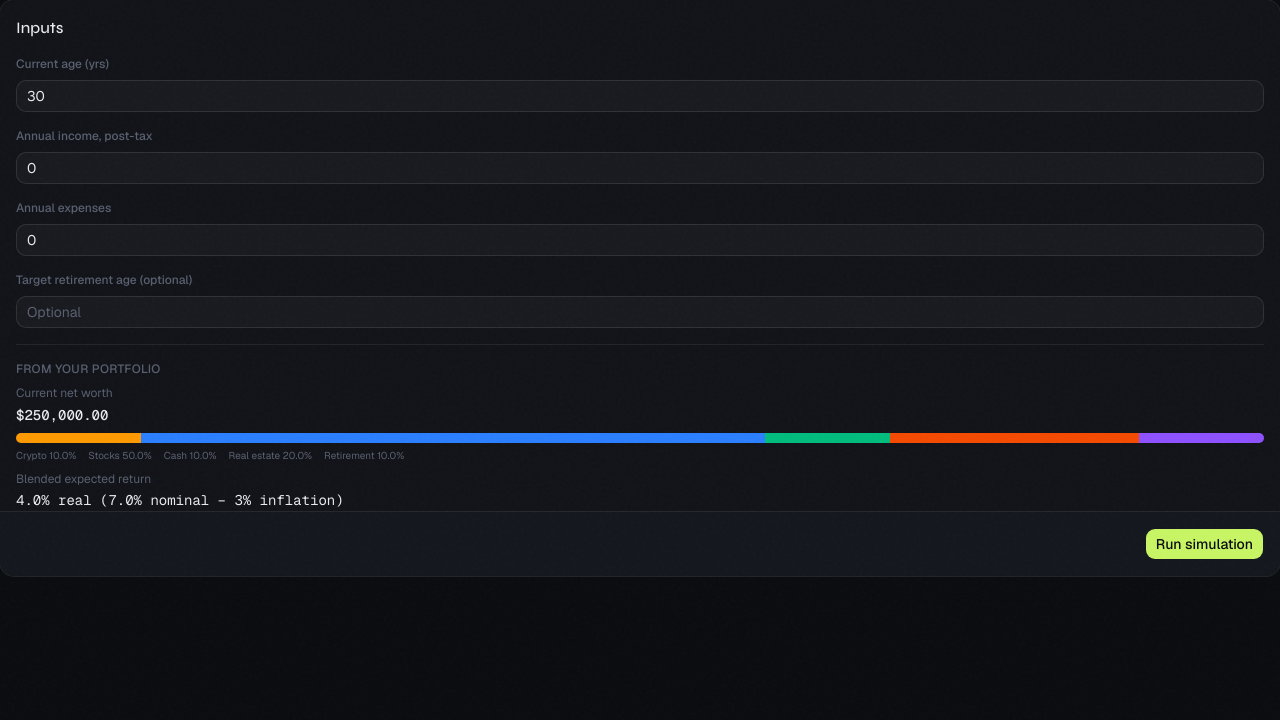
Test: FireInputsForm › shows validation when target retirement age is not above current age
Step 1. Replace the text in the number field labelled "Current age (yrs)" with "40" → [640, 96], box top-left (16, 80), bottom-right (1264, 112)
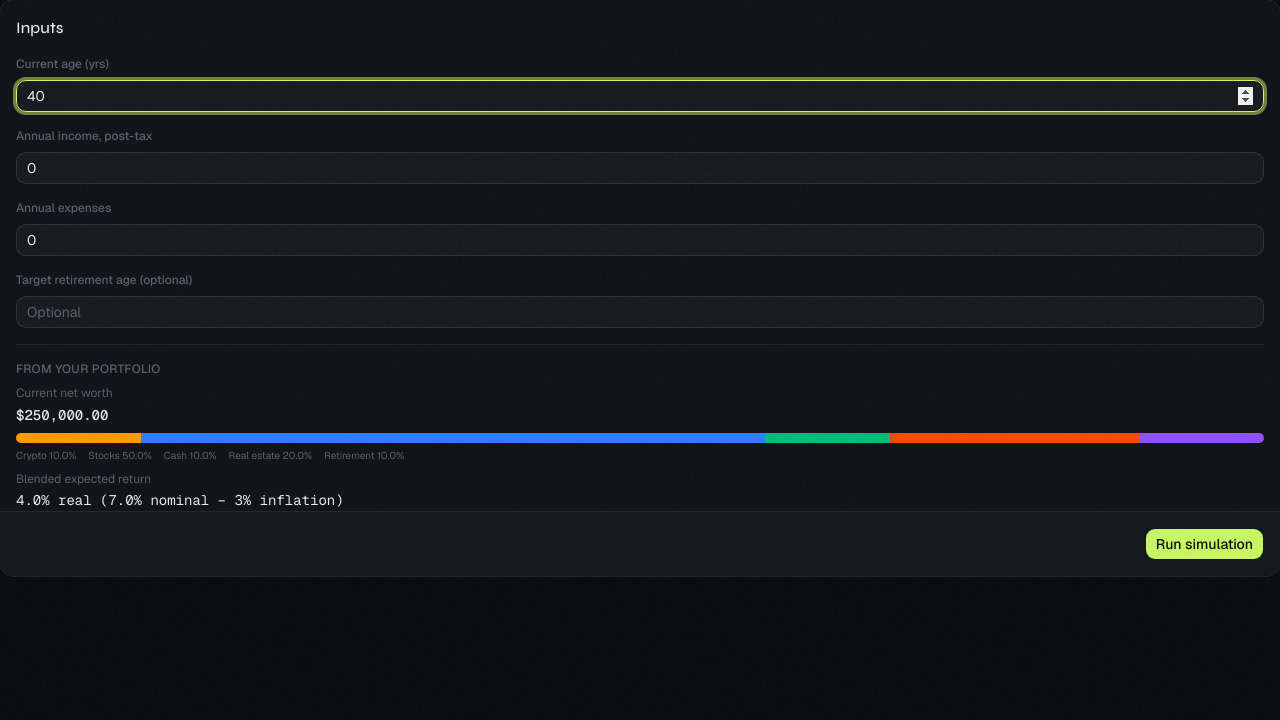
Step 2. Type "38" into the number field labelled "Target retirement age (optional)" → [640, 312], box top-left (16, 296), bottom-right (1264, 328)
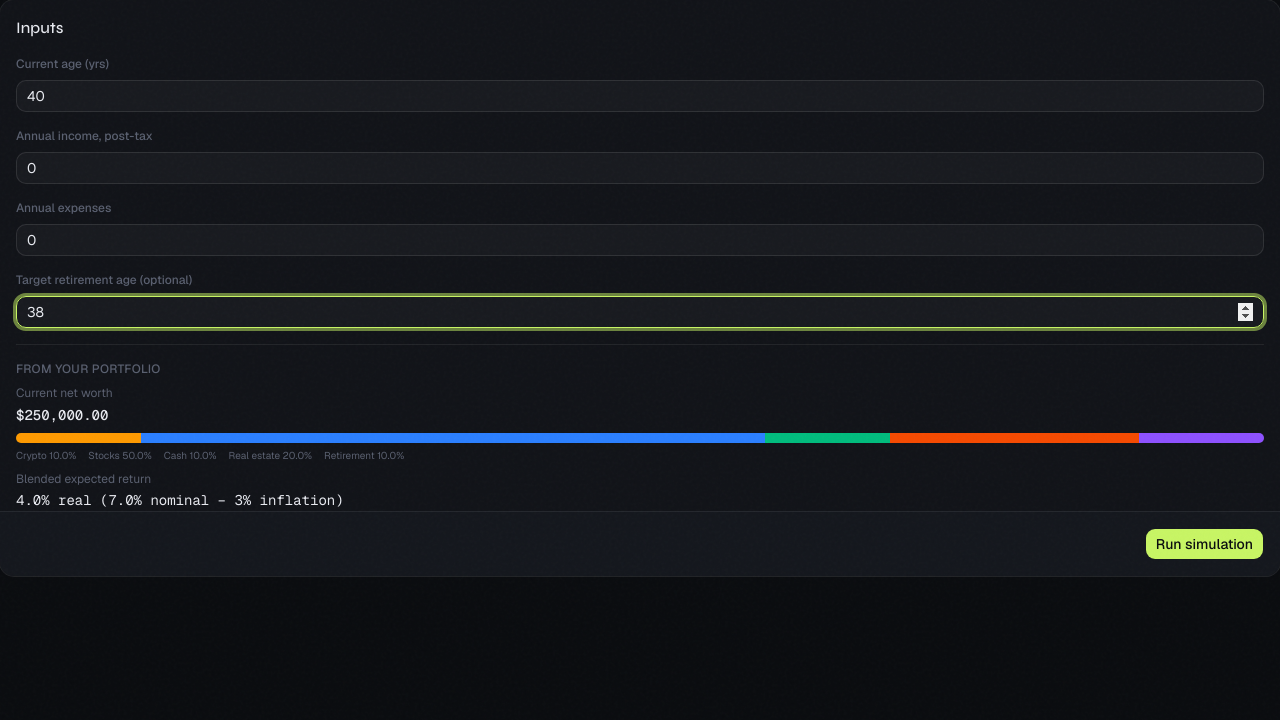
Step 3. Click the button "Run simulation" → [1204, 544], box top-left (1145, 528), bottom-right (1264, 560)
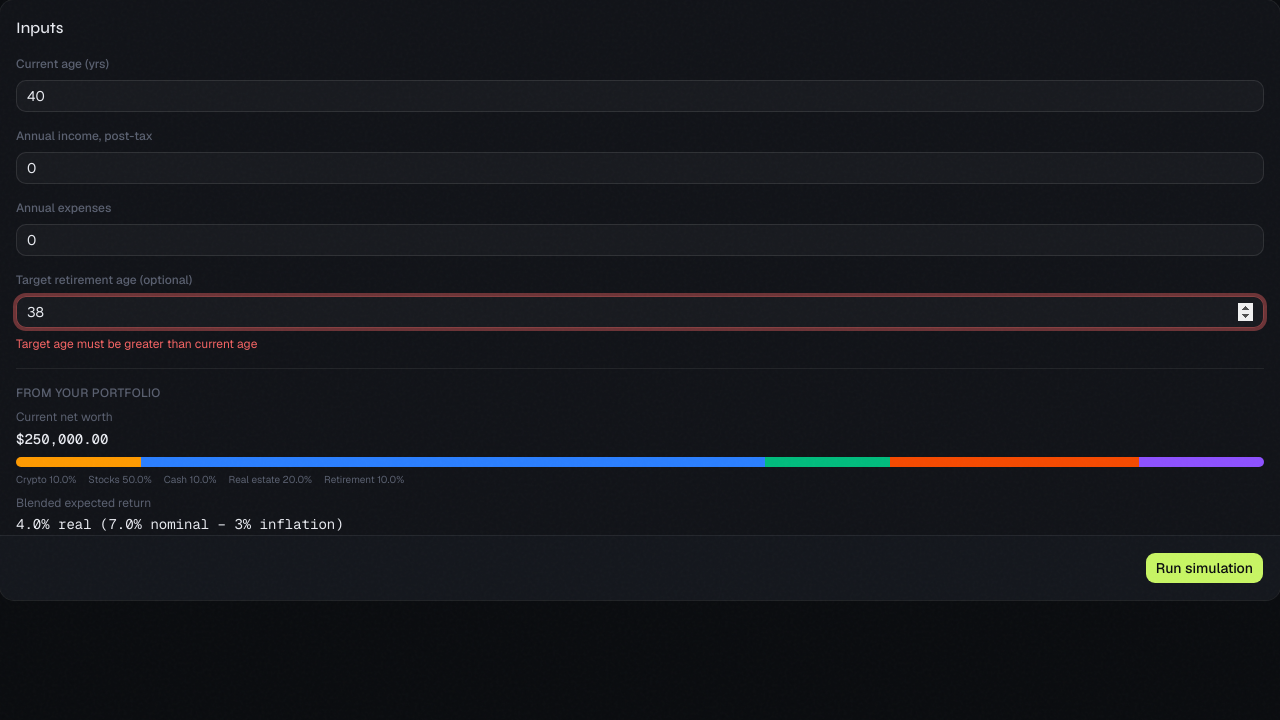
Expected: the text "Target age must be greater than current age" is shown, top-left (16, 336), bottom-right (257, 352)
